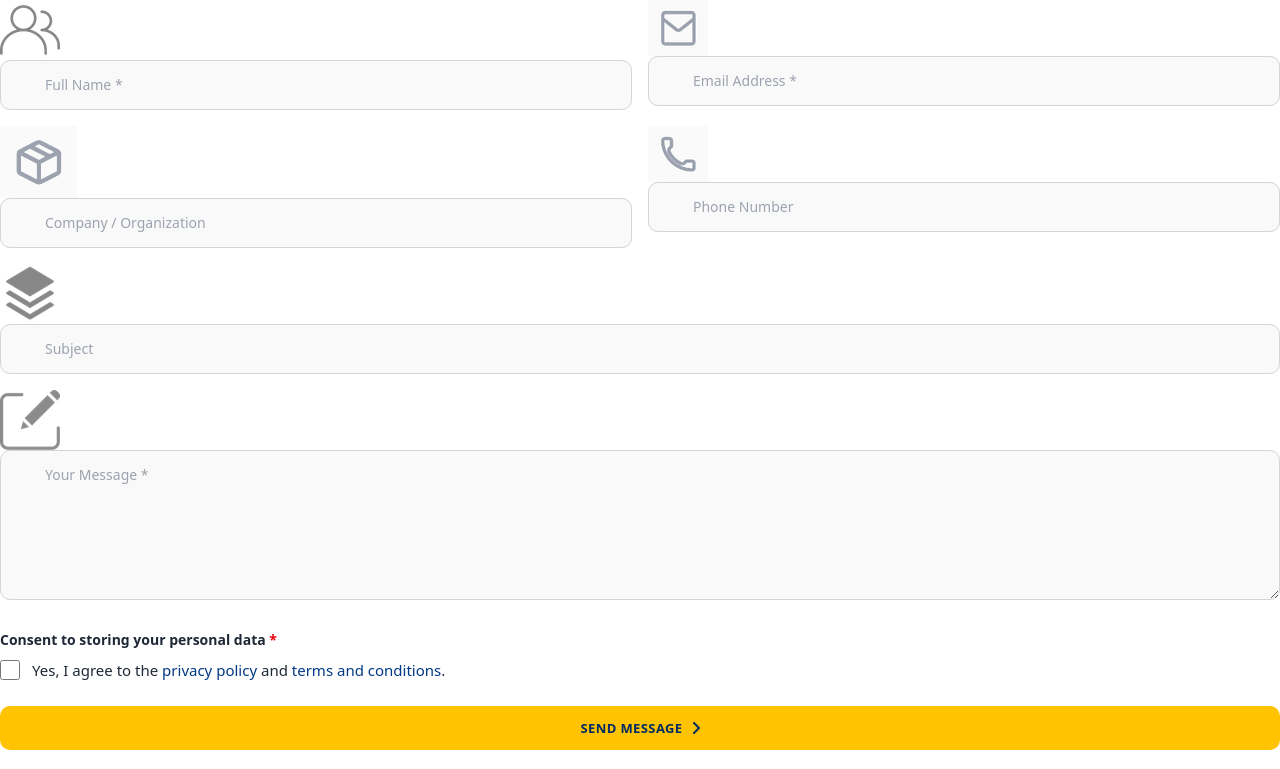
Test case: ContactForm — client validation › clears a field's error as soon as the visitor edits it
Click the button "Send Message" at (640,728), box 0,706 -> 1279,750
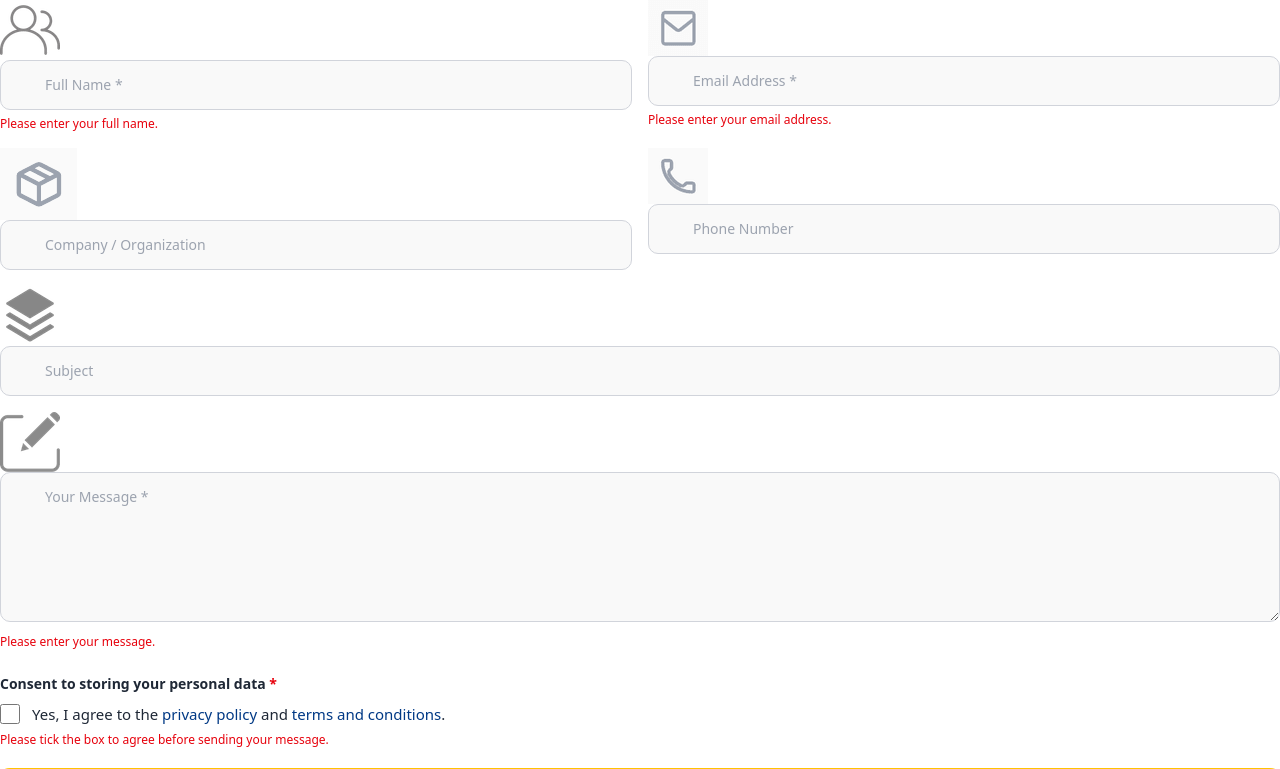
Now the text "Please enter your full name." is shown, box 0,115 -> 158,132
Type "S" into the field labelled "Full Name" at (316,85), box 0,60 -> 632,110
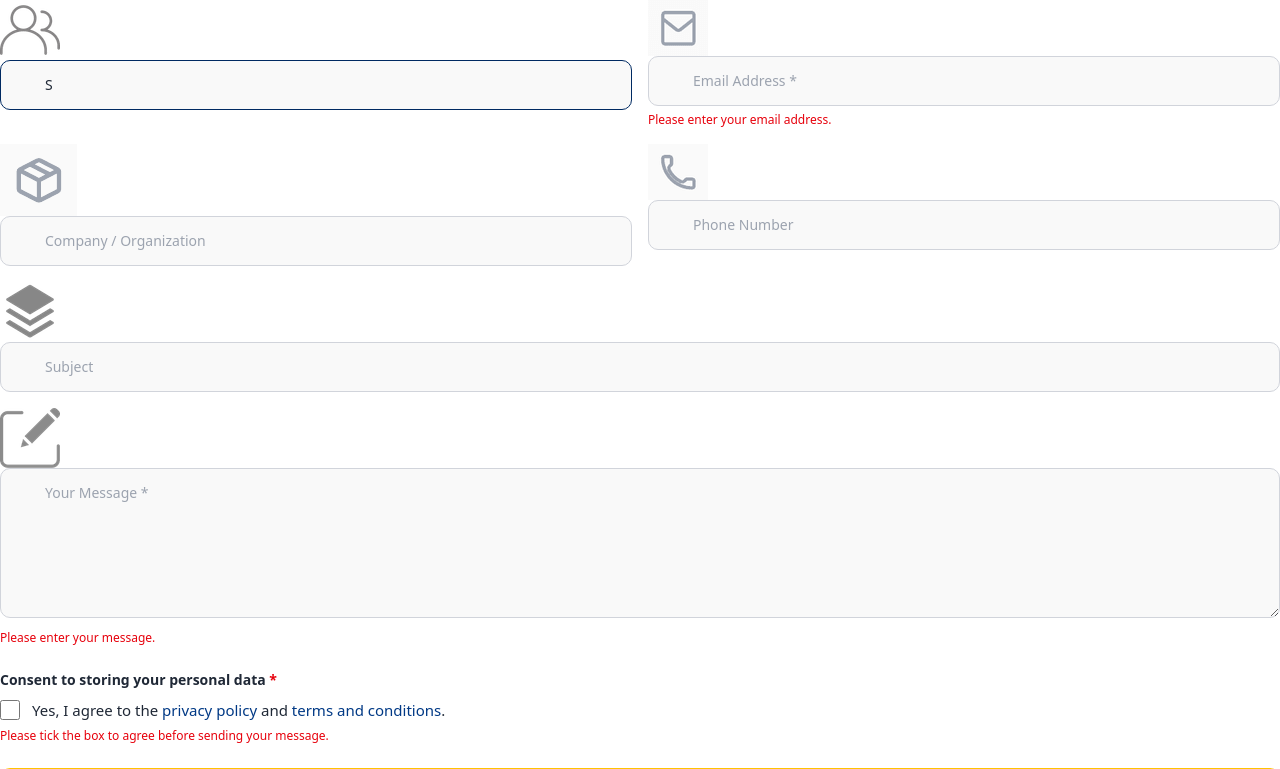
Now the text "Please enter your email address." is shown, box 648,111 -> 832,128
Now the text "Please enter your full name." is gone
